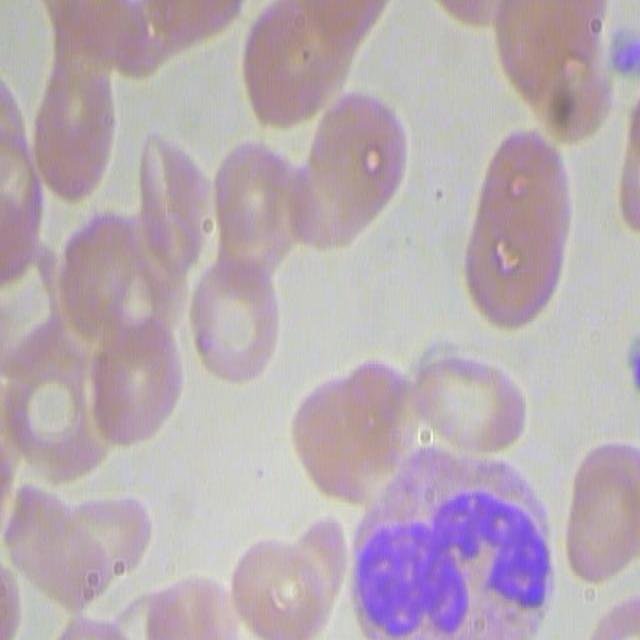RBC: (468, 131, 570, 332), (296, 97, 409, 254), (60, 216, 188, 343), (501, 0, 612, 137), (0, 479, 110, 607), (10, 335, 110, 475), (243, 0, 347, 124), (295, 386, 401, 500), (34, 60, 116, 199), (564, 442, 640, 582), (214, 148, 330, 237), (95, 327, 183, 444), (411, 359, 527, 446), (140, 130, 205, 274), (232, 539, 326, 635), (194, 269, 275, 377), (50, 0, 160, 76), (0, 230, 58, 360), (116, 0, 243, 57), (353, 362, 421, 454), (0, 134, 43, 279), (75, 499, 152, 564), (163, 578, 239, 636), (299, 519, 342, 611), (116, 592, 182, 640), (620, 100, 640, 237), (0, 83, 24, 184)
WBC: (356, 450, 549, 632)
platelets: (616, 36, 636, 77), (630, 344, 640, 394)
